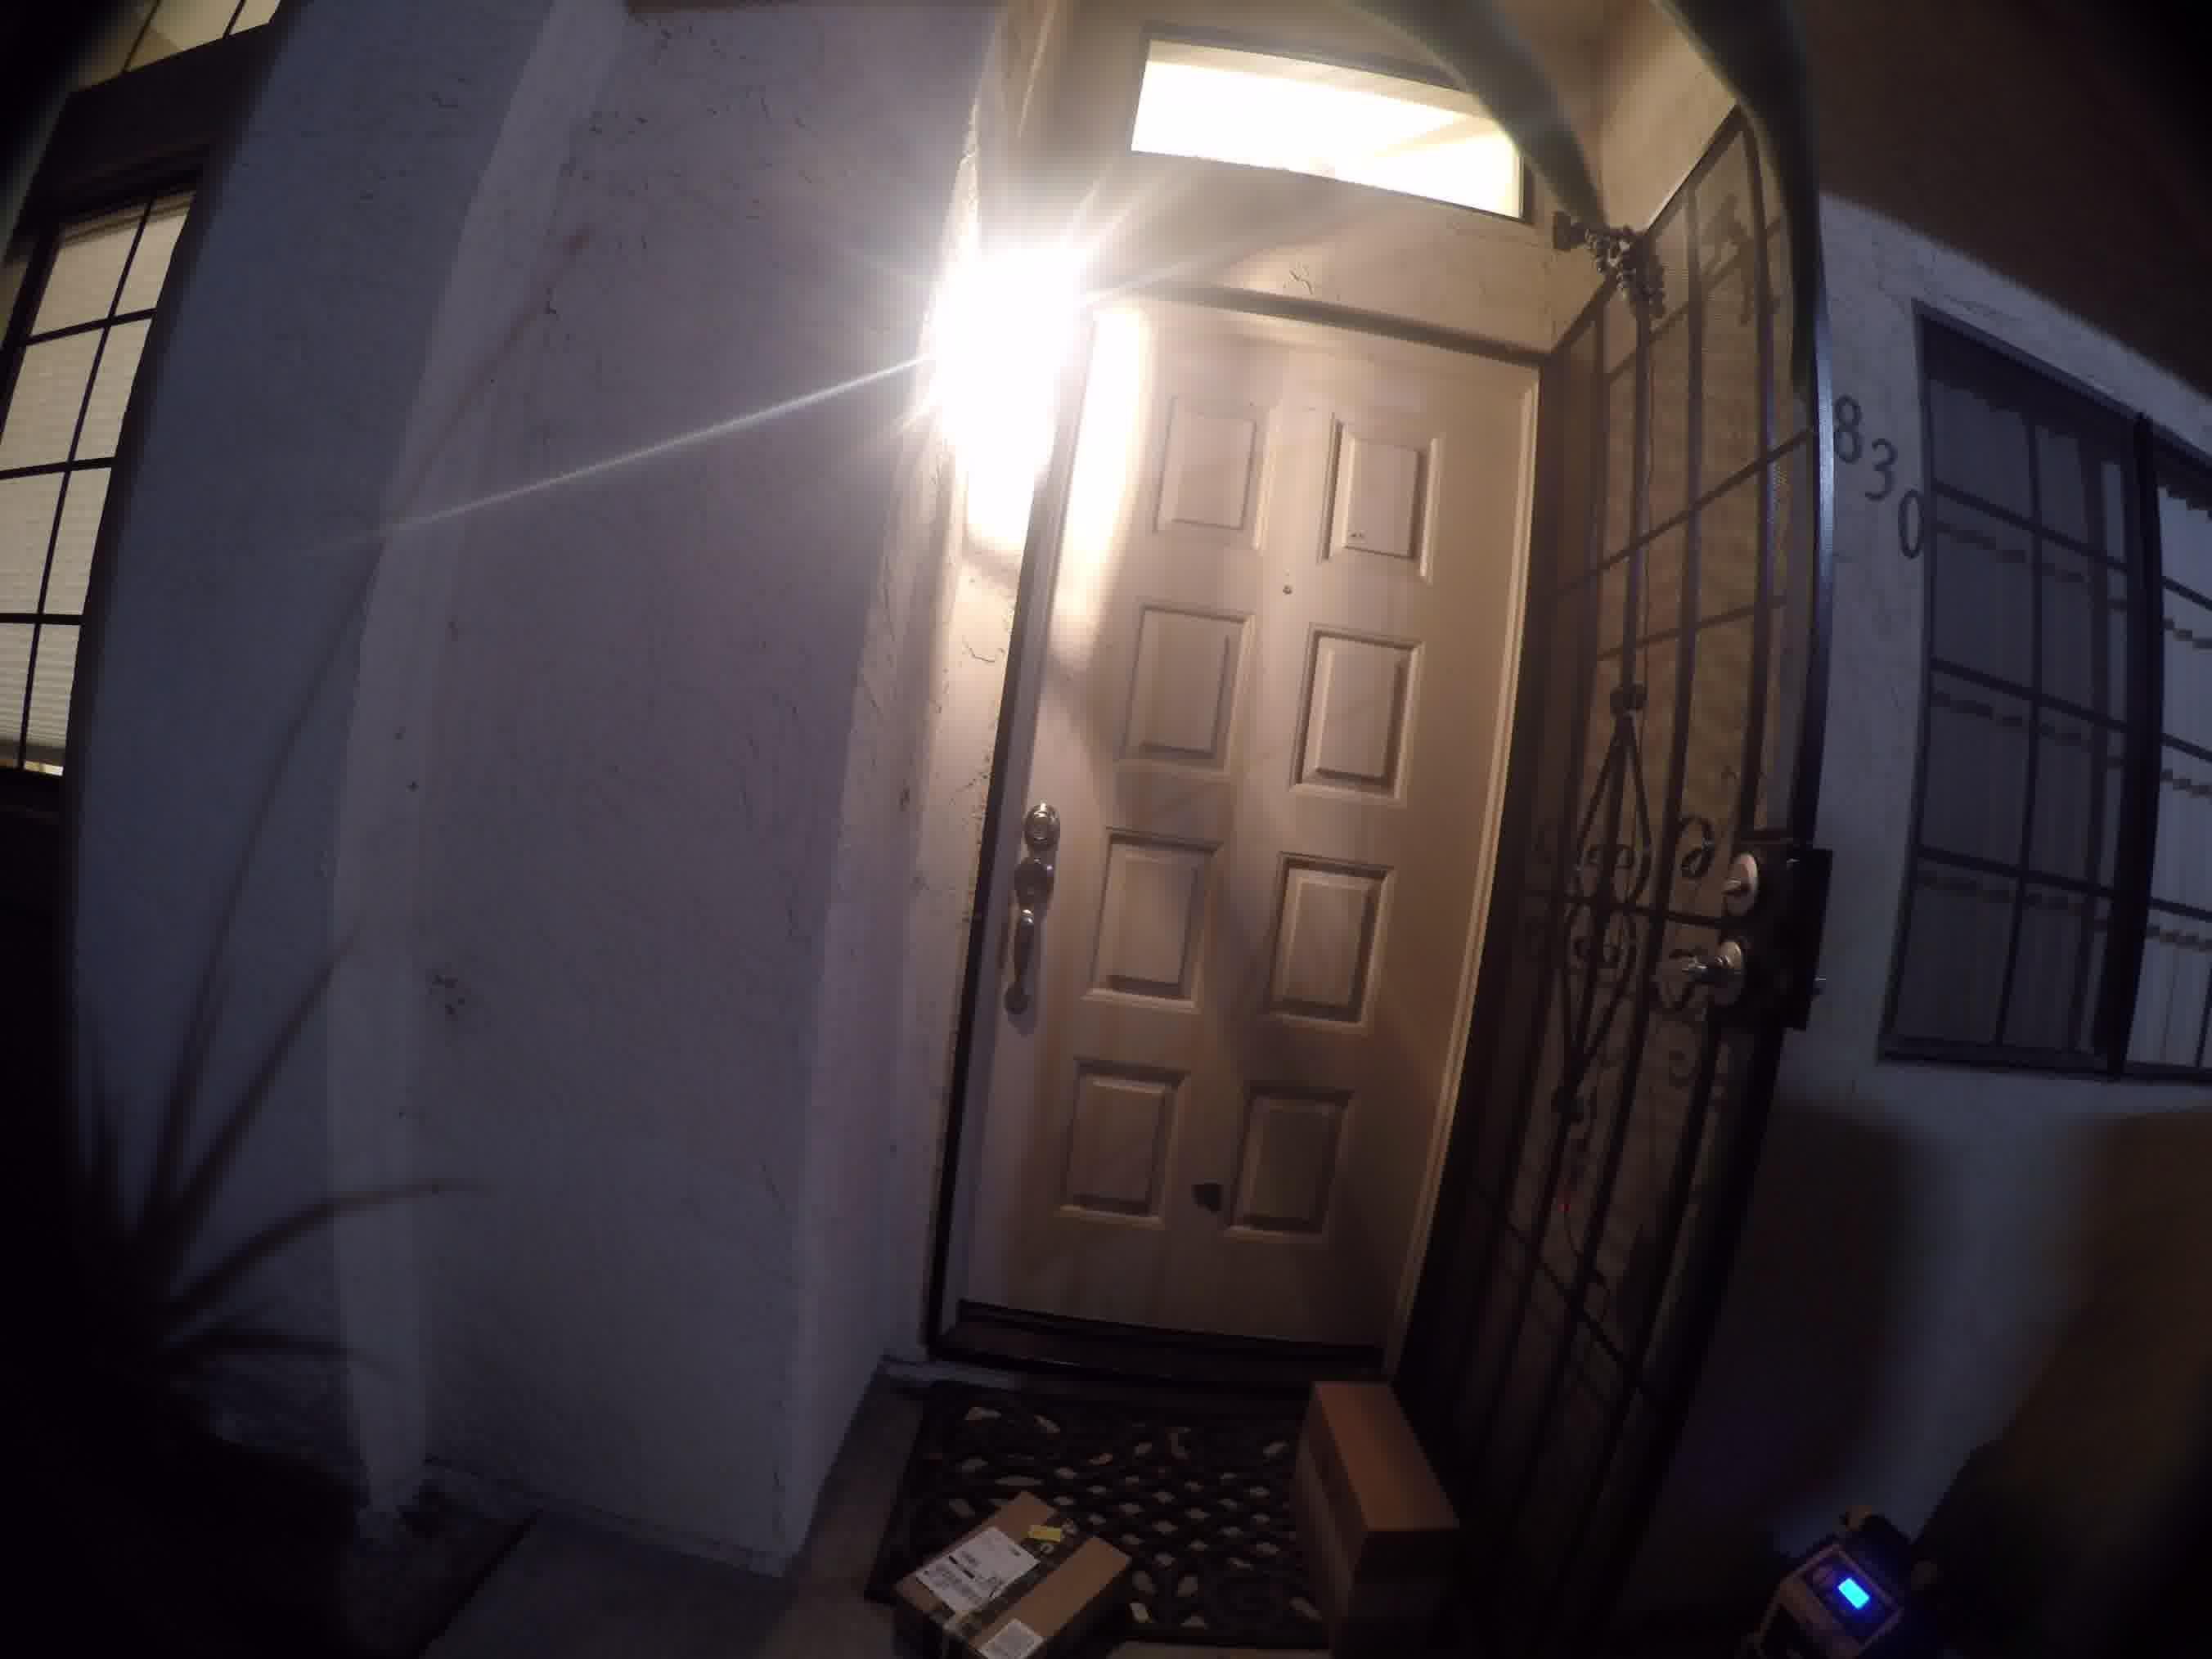box: (904, 1460, 1151, 1659), (1284, 1347, 1454, 1614)
